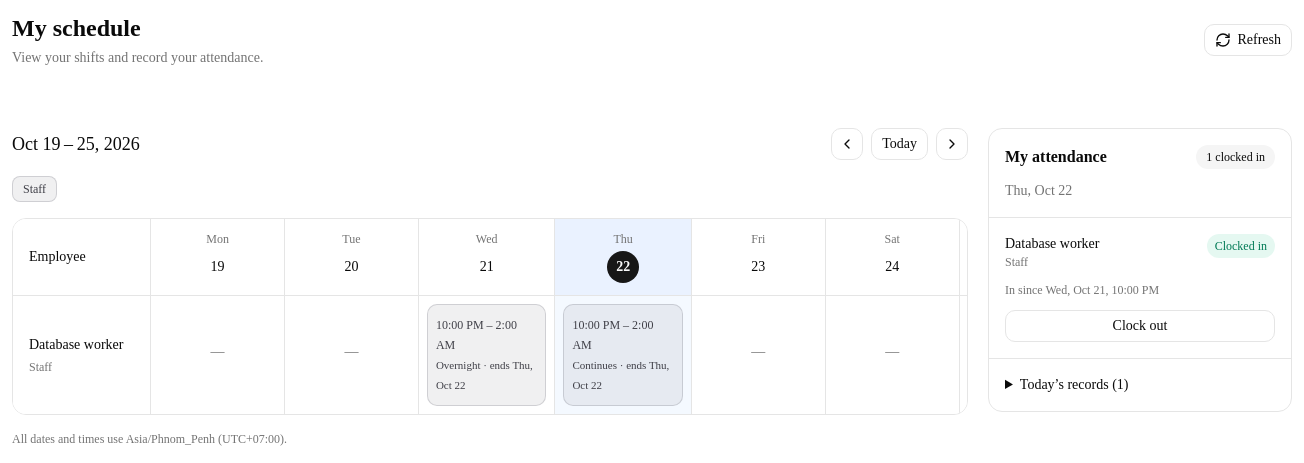
Test: staff see their own schedule and clock themselves out without sending an employee ID
Expected: the heading "My schedule" is shown, [12, 15, 141, 41]
Expected: the heading "My attendance" is shown, [1005, 145, 1107, 169]
Click the button with aria-label "Clock out Database worker" at (1140, 326), box [1005, 310, 1275, 342]
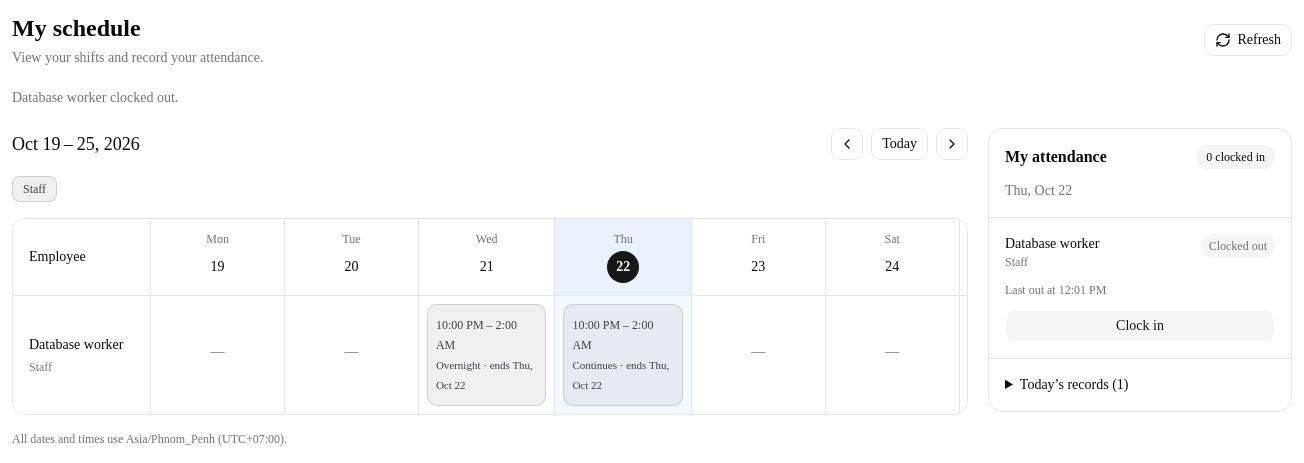
Expected: the text "Last out at 12:01 PM" is shown, [1005, 283, 1106, 297]
